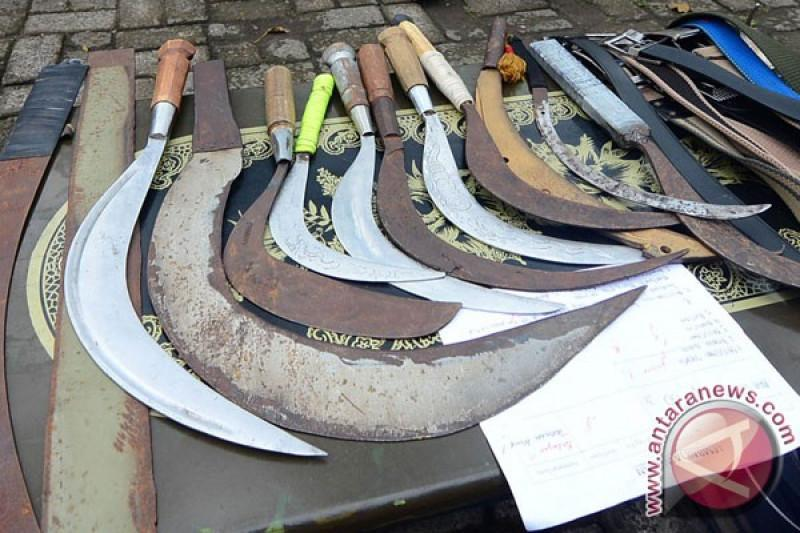foice: (144, 57, 652, 450), (43, 31, 333, 483), (357, 37, 688, 292), (463, 5, 737, 262), (322, 47, 574, 324), (537, 34, 800, 291), (375, 38, 655, 268), (225, 72, 467, 335), (393, 24, 682, 234), (517, 37, 763, 219), (267, 79, 452, 293)
